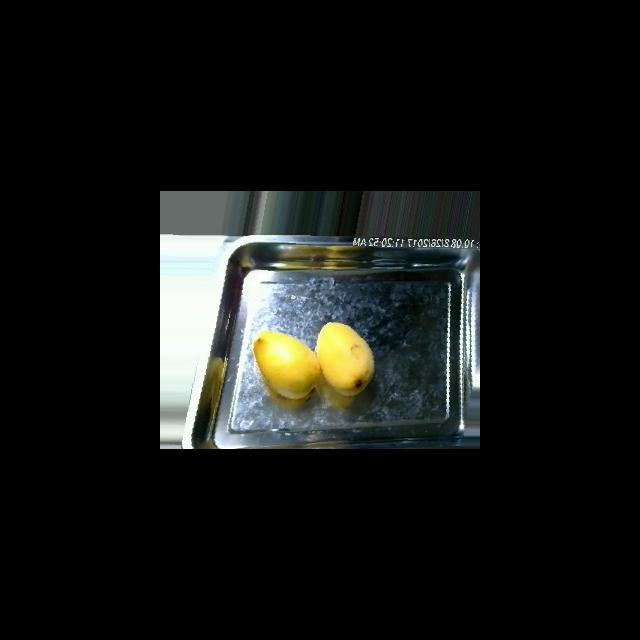mango: (252, 330, 321, 399), (315, 321, 374, 396)
